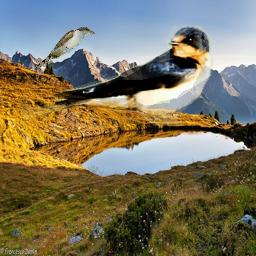Cuckoo: (34, 26, 96, 70)
Swallow: (20, 25, 214, 126)
